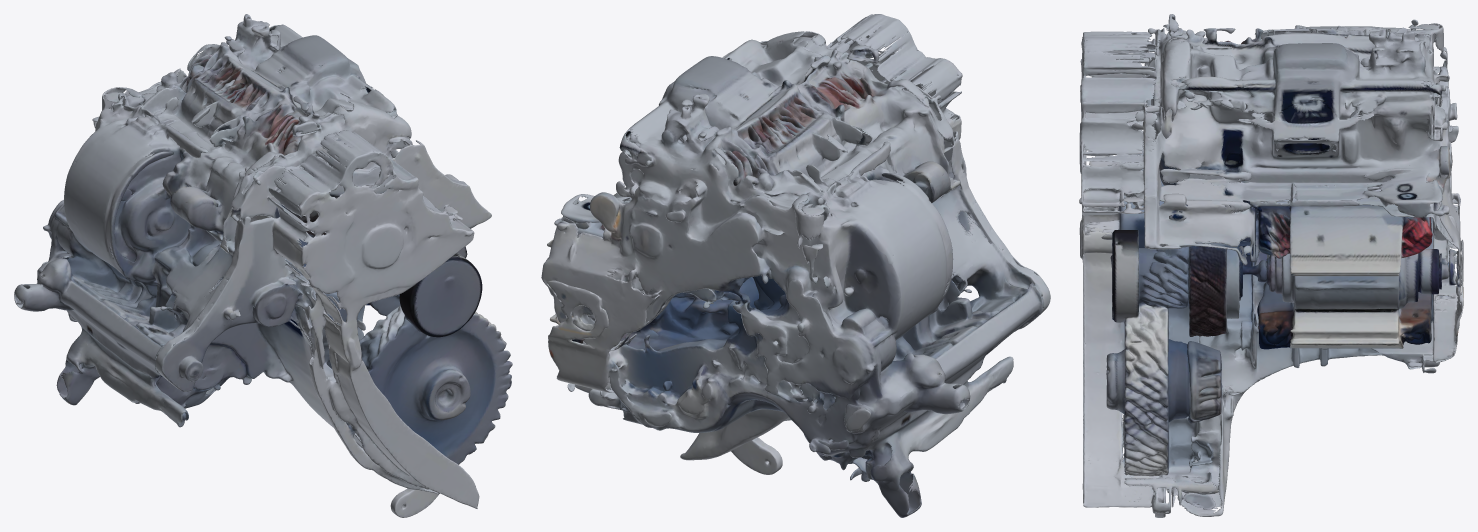
The model's file is transmission-gear.glb.
The picture shows the model from 3 angles, left to right: view 1: azimuth 30°, elevation 25°; view 2: azimuth 150°, elevation 25°; view 3: azimuth 270°, elevation 25°; orthographic projection. The views are drawn at different scales.
Visible parts, largest first — view 1: tripo_node_696fe0b3-0c67-4429-be5e-712ca48282df; view 2: tripo_node_696fe0b3-0c67-4429-be5e-712ca48282df; view 3: tripo_node_696fe0b3-0c67-4429-be5e-712ca48282df.
Boxes of the visible parts, <box> form: tripo_node_696fe0b3-0c67-4429-be5e-712ca48282df: <box>14,14,512,517</box>; tripo_node_696fe0b3-0c67-4429-be5e-712ca48282df: <box>541,14,1050,517</box>; tripo_node_696fe0b3-0c67-4429-be5e-712ca48282df: <box>1079,14,1463,517</box>.
Size of the model in its own units: 0.9253 by 0.9998 by 0.7576.
1 material, 1 textured.
